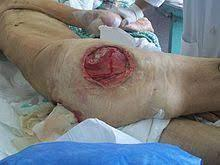Stage4: (76, 39, 145, 105)
